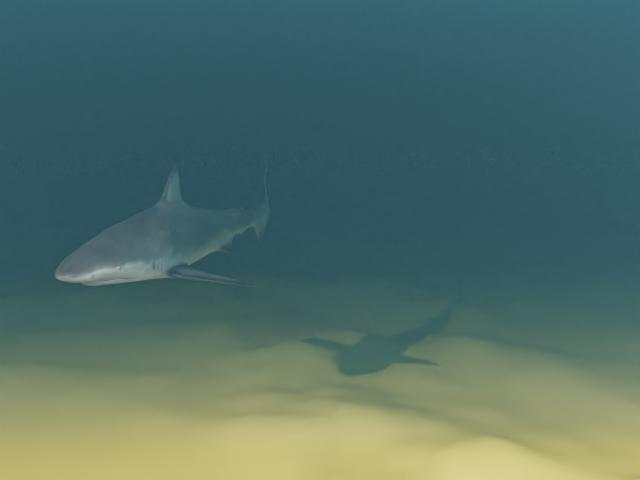Carribean Shark.001: (54, 155, 270, 286)
